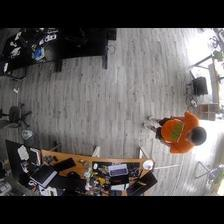normal: (147, 110, 207, 153)
